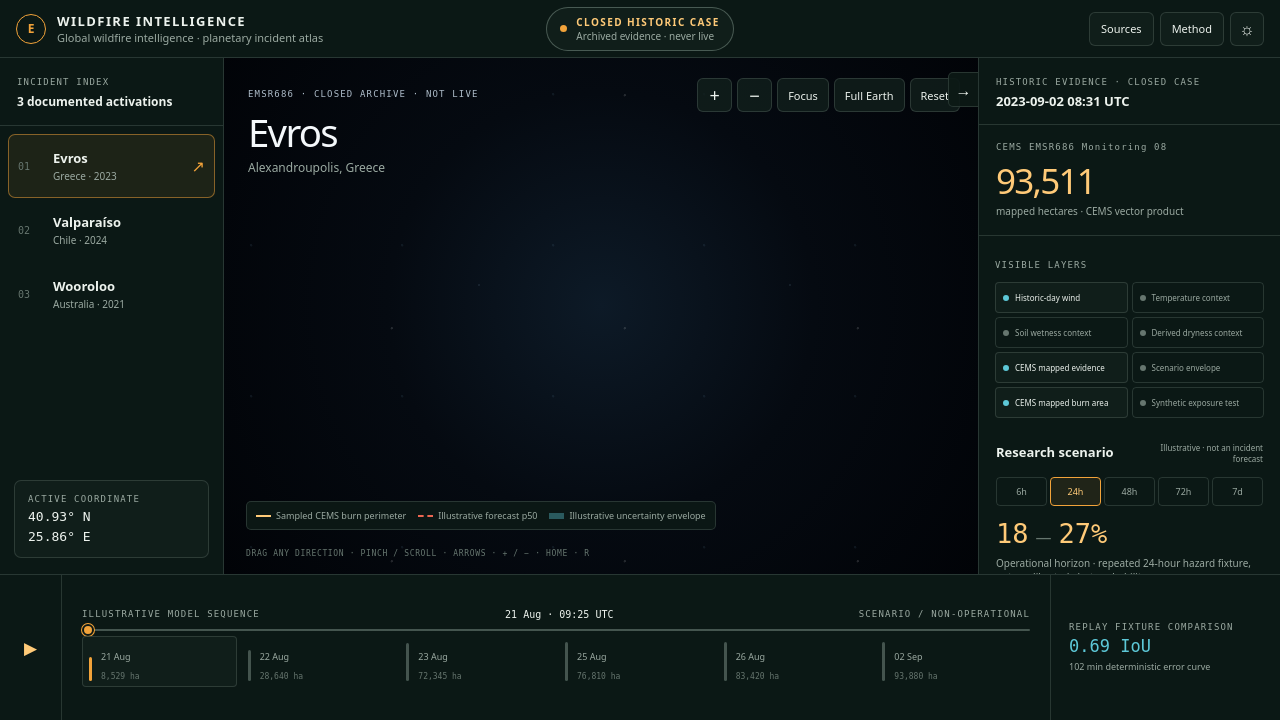
Scenario: wildfire dashboard controls › switches between real historic activation examples and exposes provenance
The width and height of the screenshot is (1280, 720).
Click the button "02 Valparaíso Chile · 2024".
click(112, 230)  # box [8,198,215,262]
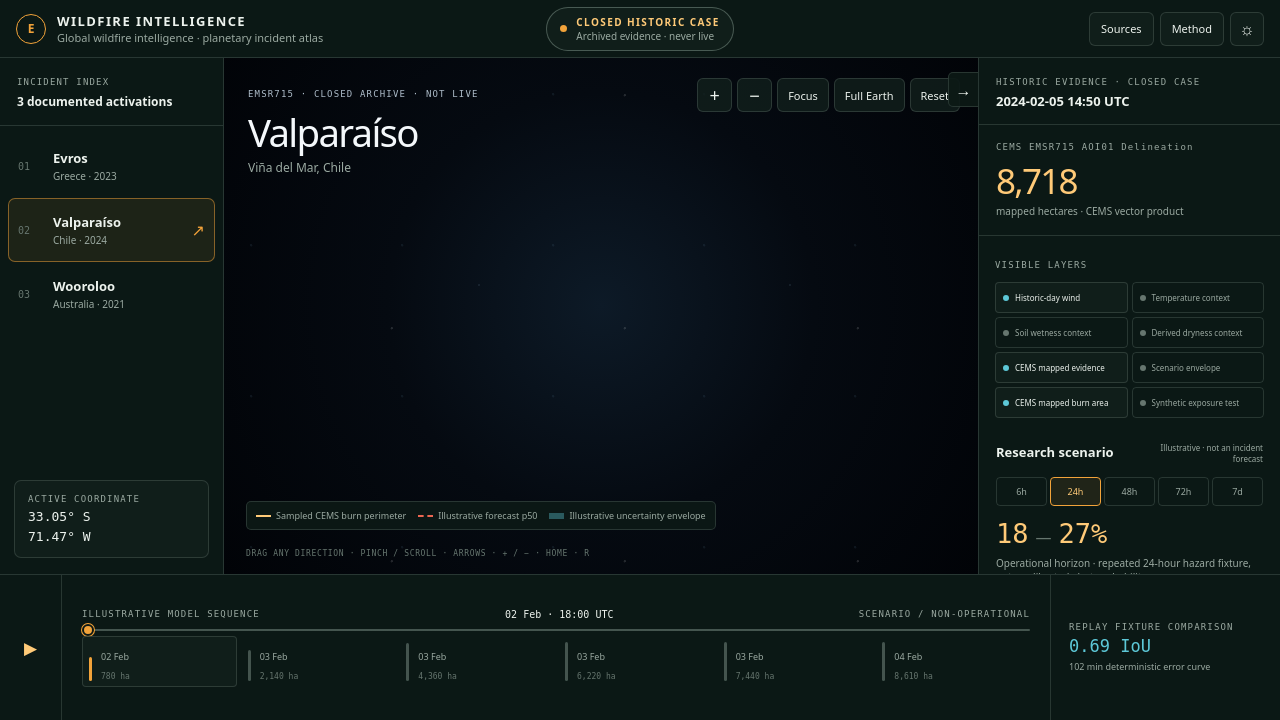
Result: the heading "Valparaíso" is shown at [248,106,418,158]
Result: the text "Viña del Mar, Chile" is shown at [248,159,351,176]
Click the button "Sources".
click(1121, 28)  # box [1089,12,1154,46]
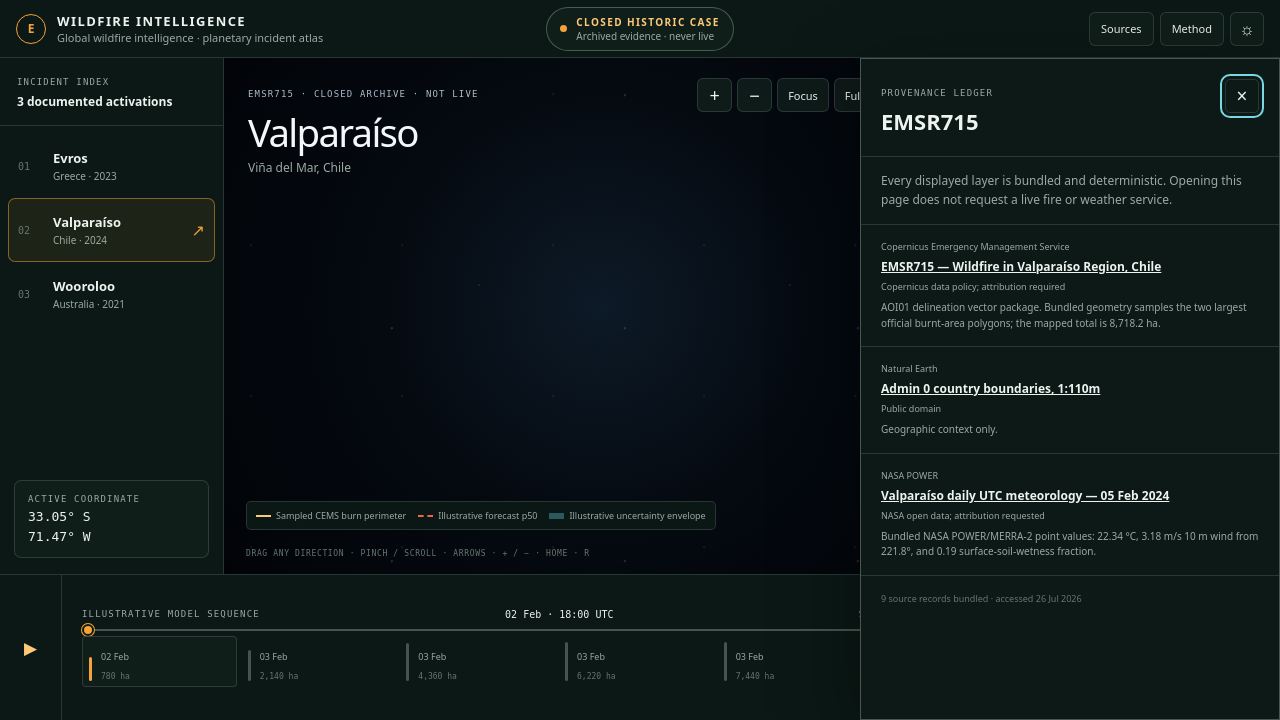
Result: the dialog named "Data provenance for EMSR715" is shown at [860,58,1279,719]
Result: the heading "EMSR715" is shown at [881,106,978,136]
Result: the text "does not request a live fire or weather service" is shown at [881,172,1242,208]
